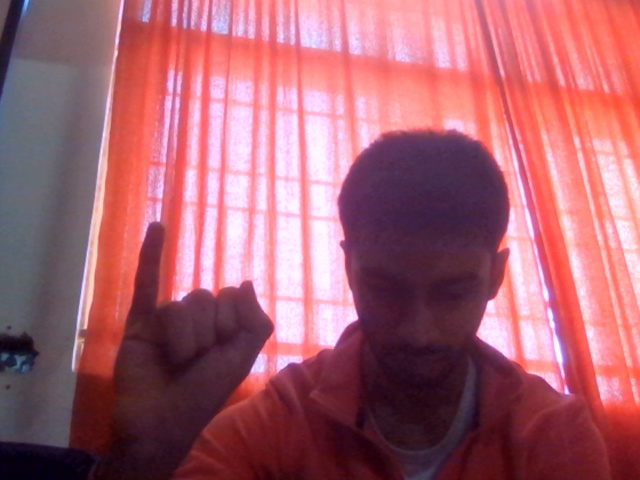I: (83, 208, 291, 480)
